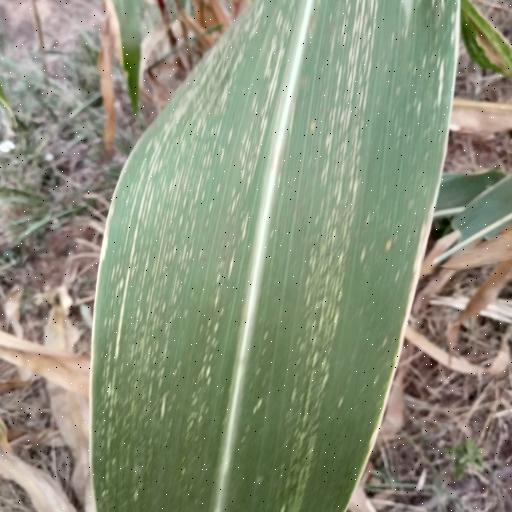Corn_Streak: (84, 0, 466, 512)
